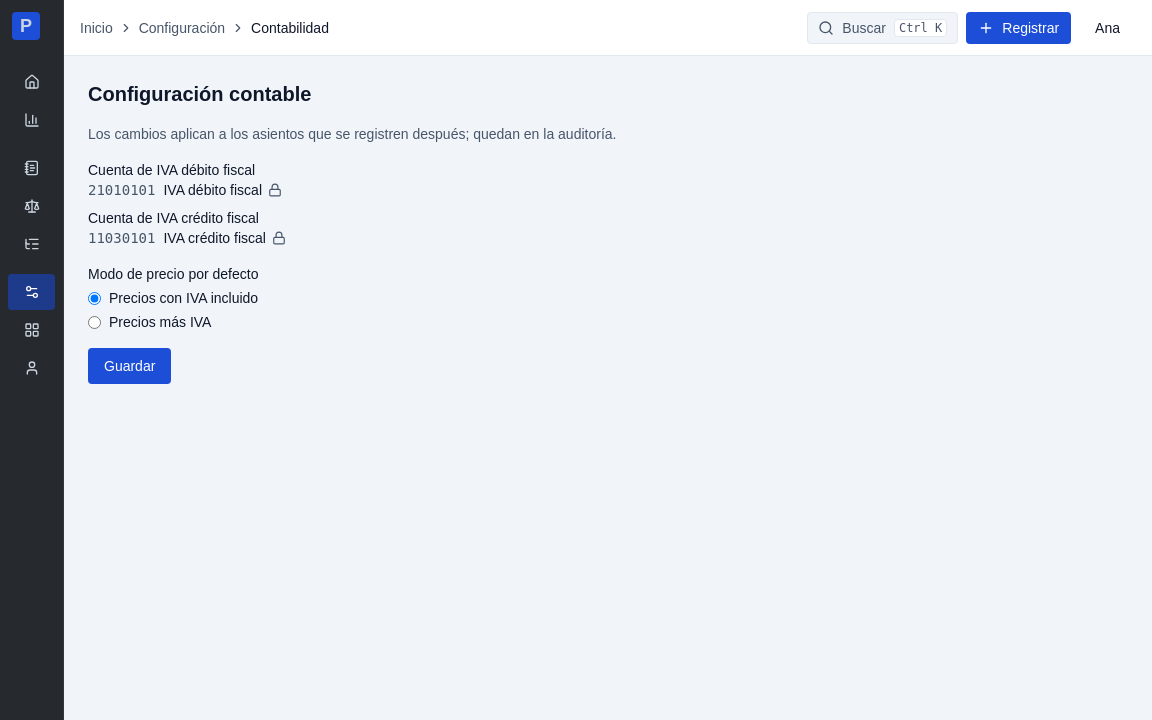
Test: pestaña Contabilidad de Configuración › el PUT lleva If-Match y únicamente el modo de precio
Click the radio button labelled "Precios más IVA".
click(94, 322)  # box [88, 316, 101, 328]
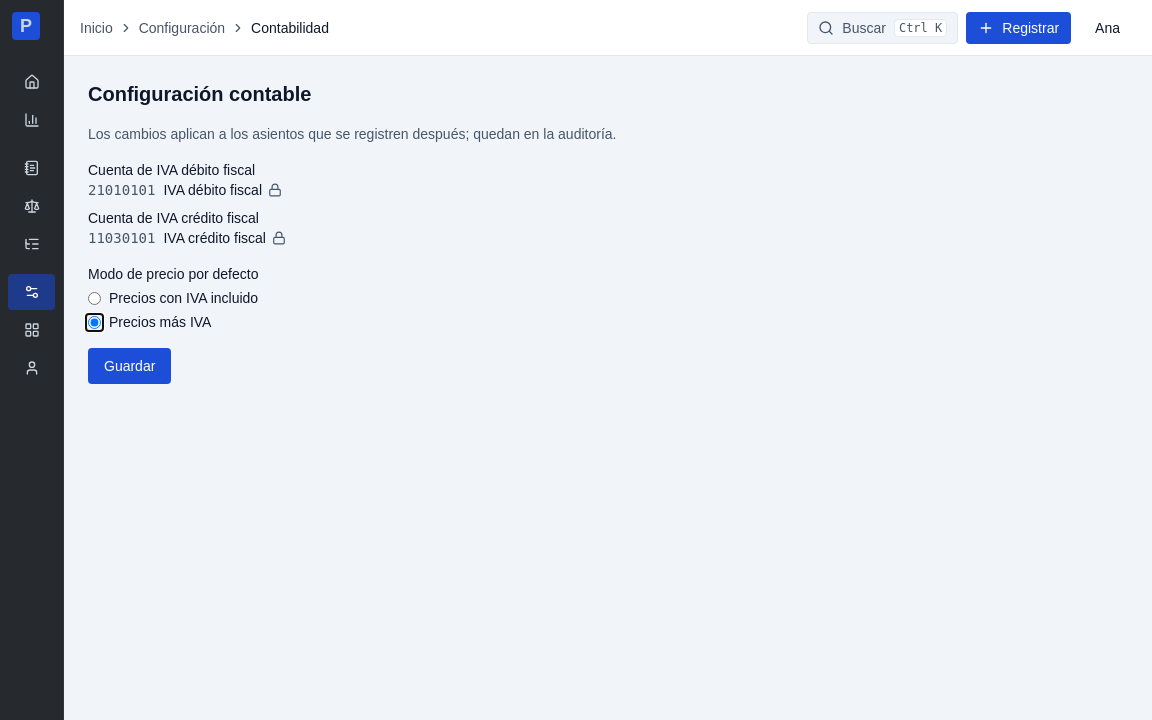
Click the button "Guardar".
click(130, 366)  # box [88, 348, 171, 384]
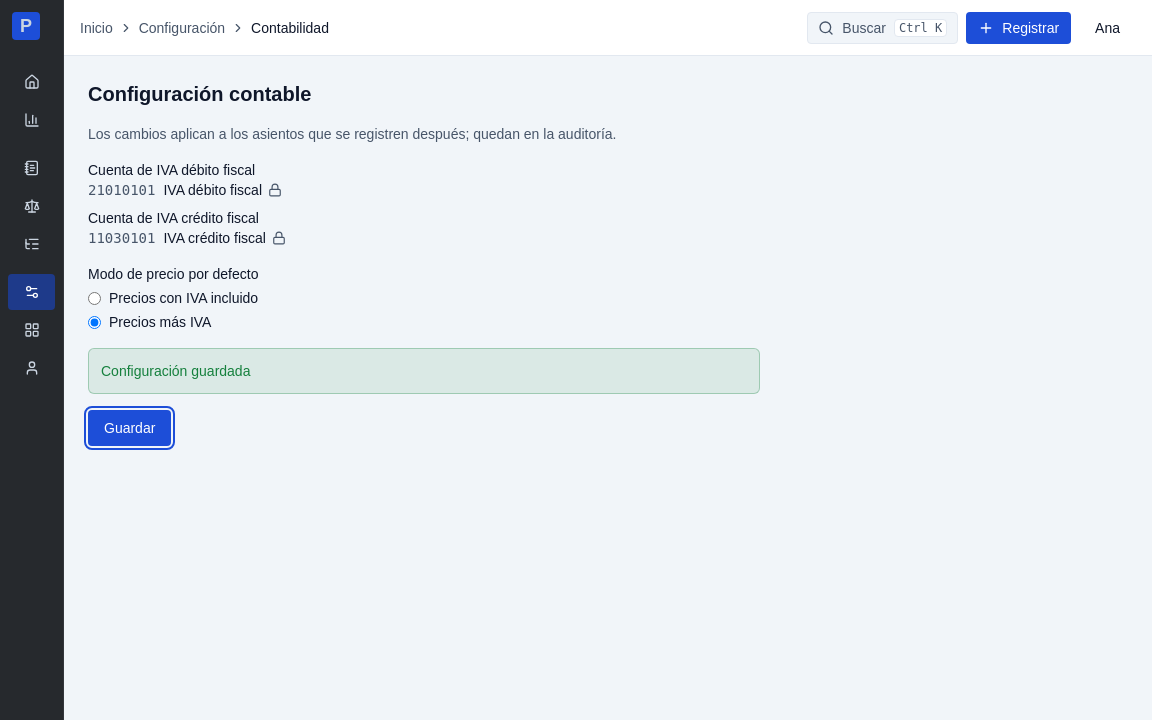
Expected: the text "Configuración guardada" is shown, [88, 348, 760, 394]
